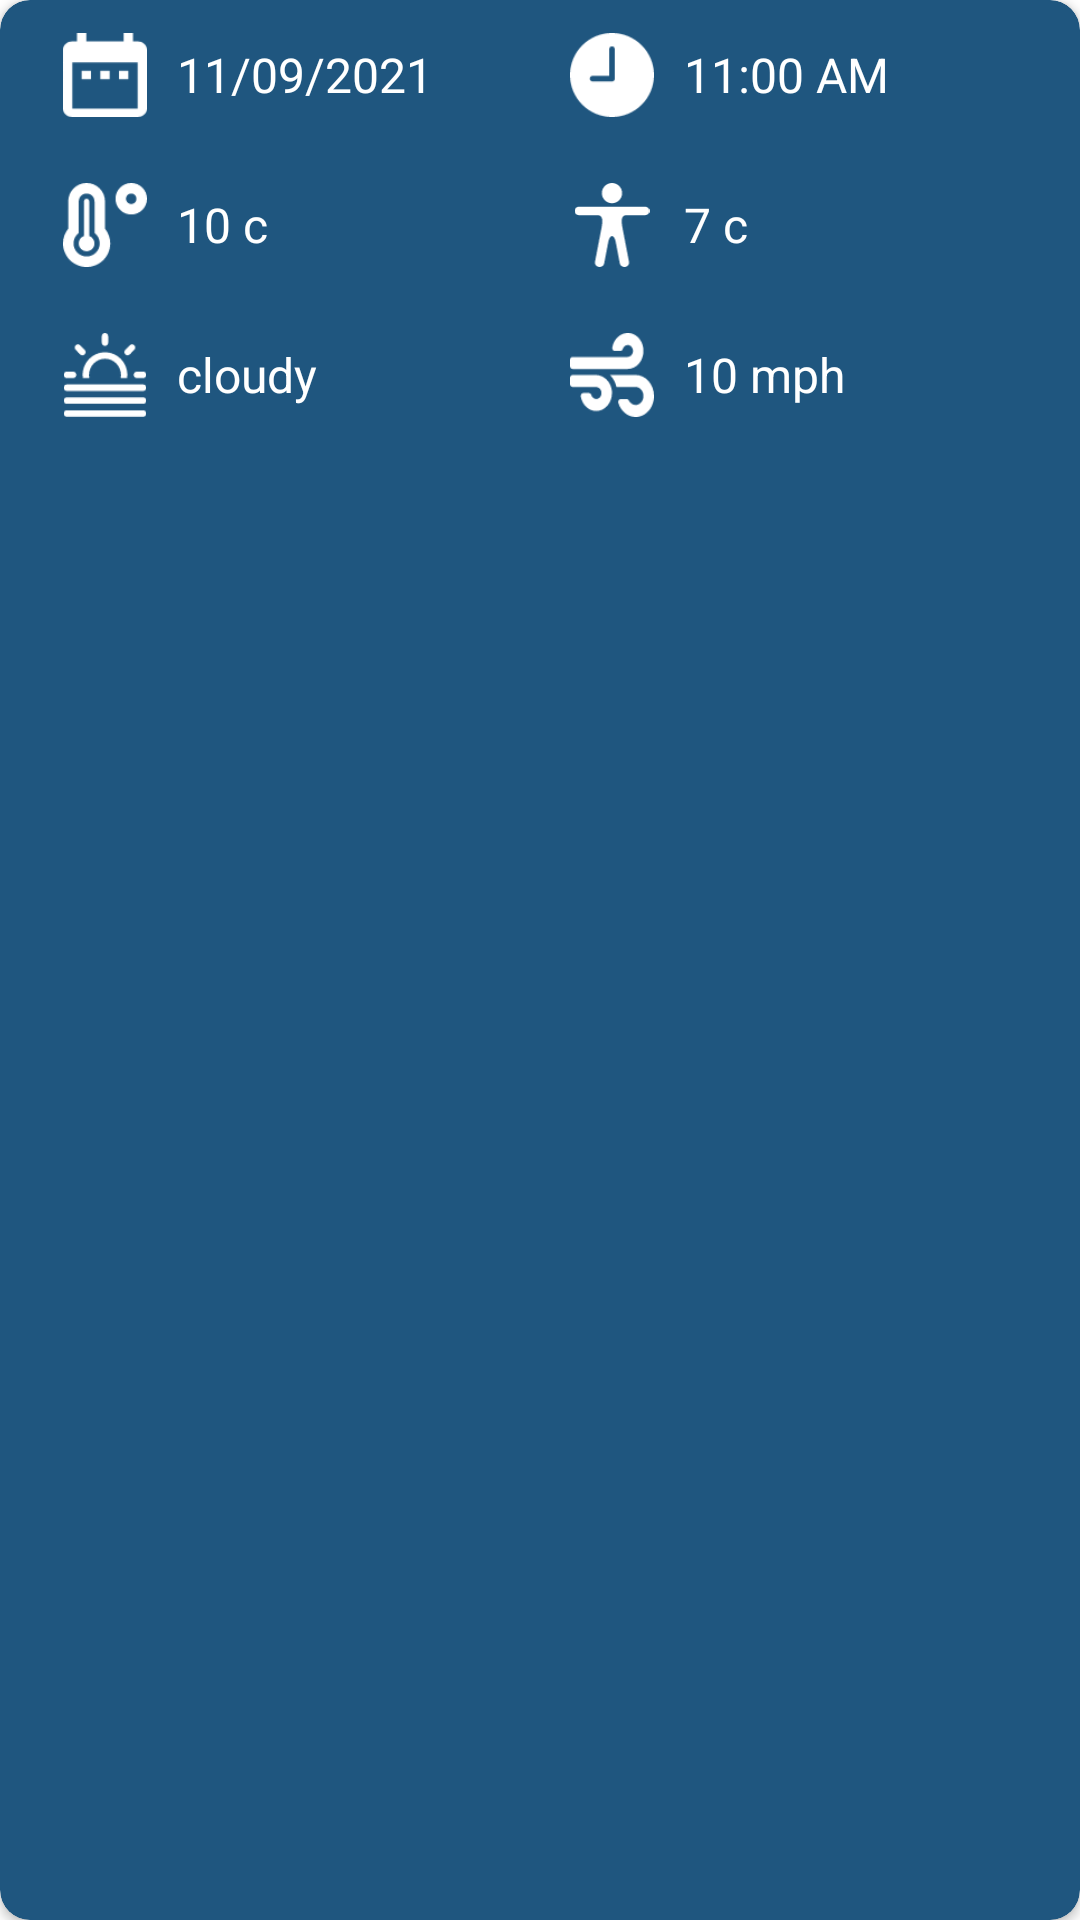

Named icons in this screenshot (1080px x 1920px) and their bounding boxes, bbox(x1, y1, x2, y2):
condition: bbox(64, 333, 146, 417)
date: bbox(63, 33, 147, 117)
time: bbox(570, 33, 654, 117)
wind: bbox(570, 333, 654, 417)
